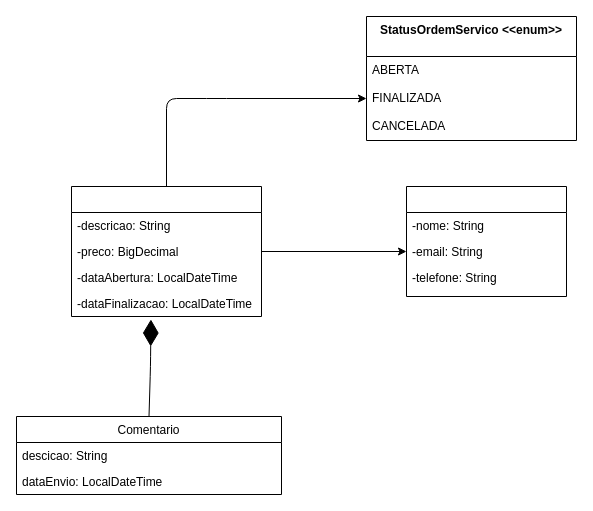
Image size: 593x511. Some labels were removed from this diagram. The box of each missing label's shape, as (x1, y1, x2, y2) in pixels:
Cliente: (406, 186, 566, 296)
OrdemServico: (70, 186, 262, 316)
